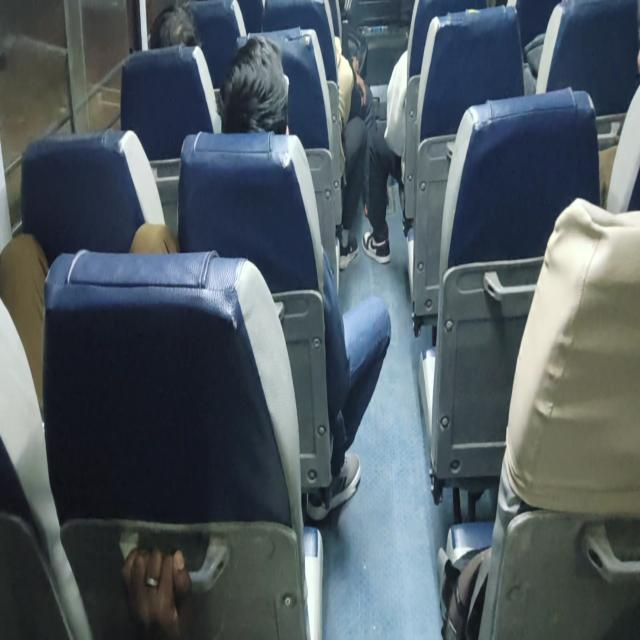person: (130, 33, 392, 519), (218, 34, 290, 135), (120, 544, 193, 638), (148, 4, 202, 49)
